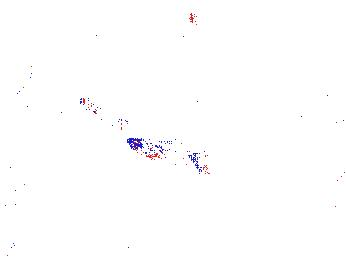red belly glassfish: (76, 95, 129, 133)
redtail glassfish: (126, 134, 215, 177)
